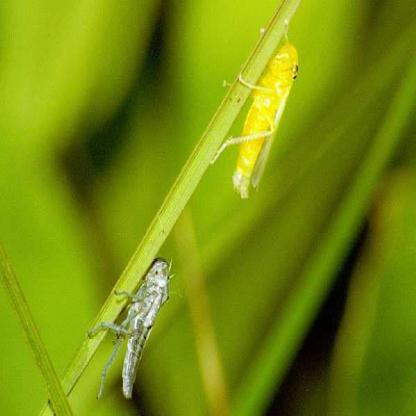Green-Leafhopper: (213, 26, 302, 200), (82, 248, 177, 404)
